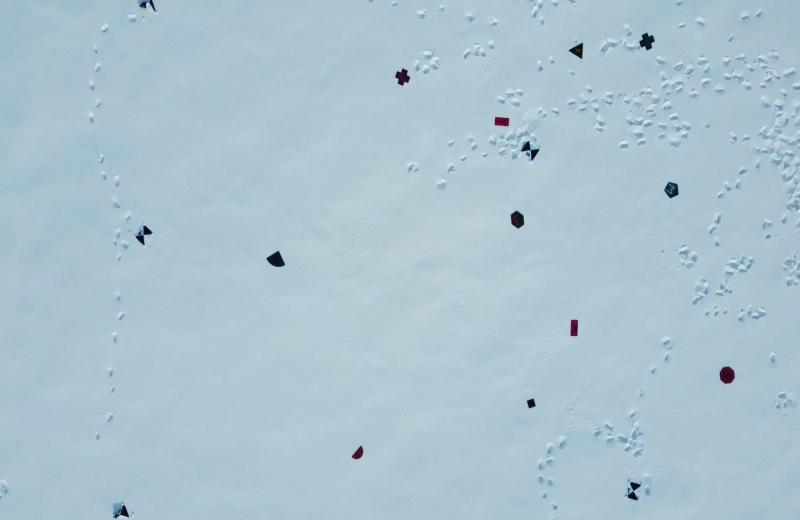Cross: (640, 32, 656, 50), (396, 68, 411, 87)
Hexagon: (510, 208, 525, 228)
Octagon: (719, 366, 735, 384)
Pentagon: (664, 180, 679, 200)
Quarter Circle: (266, 249, 286, 270)
Rectangle: (567, 319, 581, 337), (494, 113, 510, 127)
Semi Circle: (351, 444, 364, 460)
Square: (526, 397, 537, 410)
Triangle: (570, 42, 586, 61)
